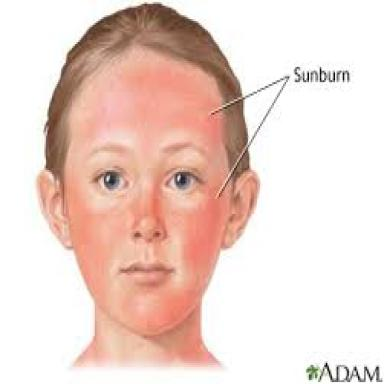burn: (38, 63, 232, 369)
